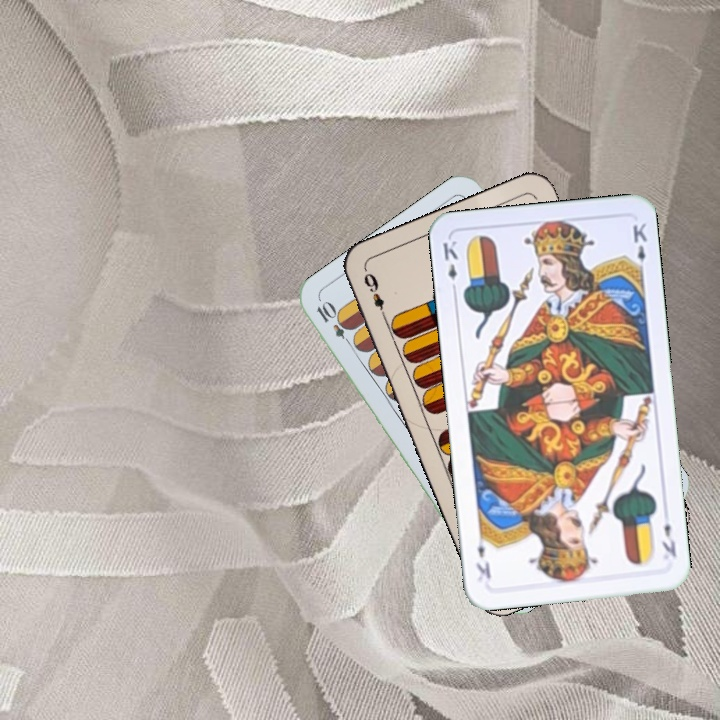E10: (312, 297, 357, 350)
E9: (359, 266, 389, 323)
EK: (439, 236, 460, 296), (658, 519, 679, 560)
